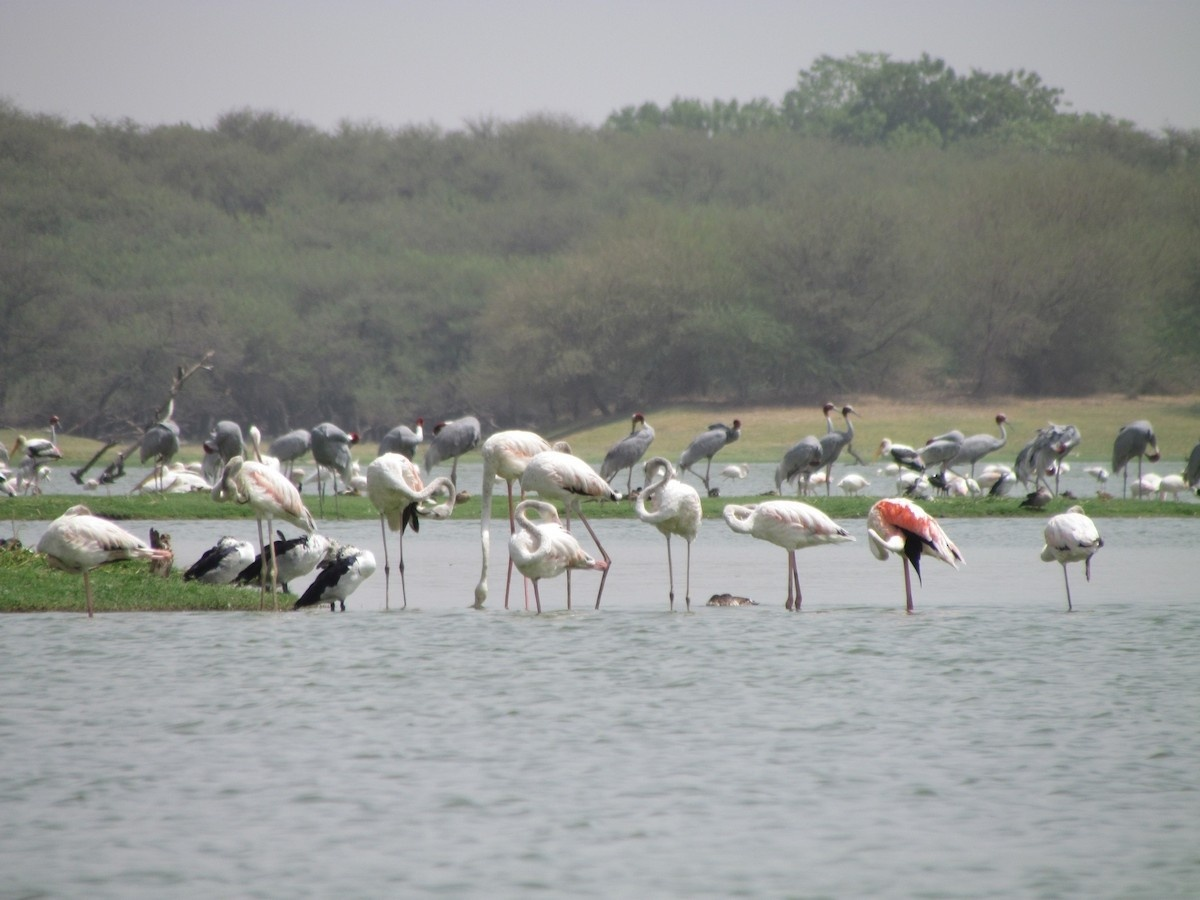crane: (681, 414, 758, 507), (955, 409, 1016, 487), (598, 407, 658, 480), (311, 422, 367, 487), (819, 407, 864, 486), (13, 415, 68, 465), (378, 415, 439, 460)
